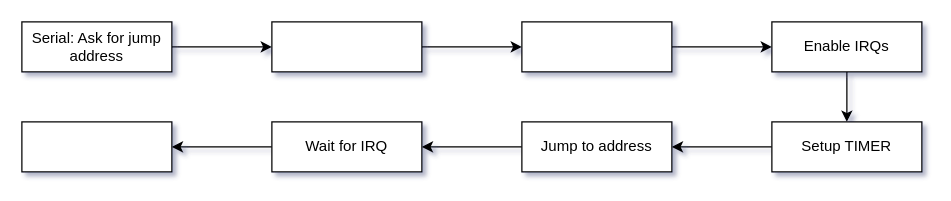
This 951x201 diagram has some shape labels left out. The centre of each missing label's shape, as x and y in pixels:
"Dump SRAM + WREG" belongs at (96,146).
"Init SRAM" belongs at (596,46).
"Serial: Ask for SRAM fill pattern" belongs at (346,46).
